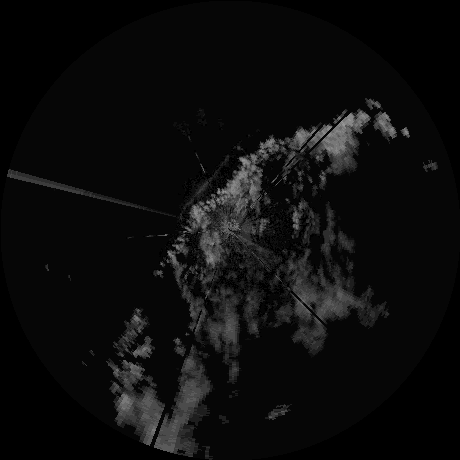frontgust: (177, 155, 227, 217)
